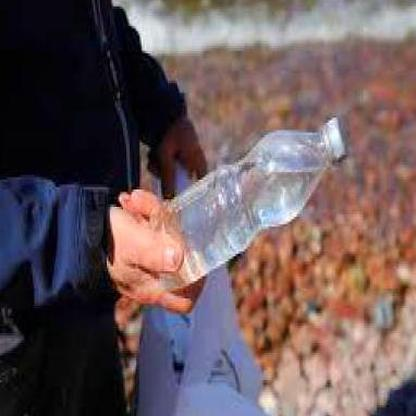plastic bottle: (149, 116, 349, 286)
